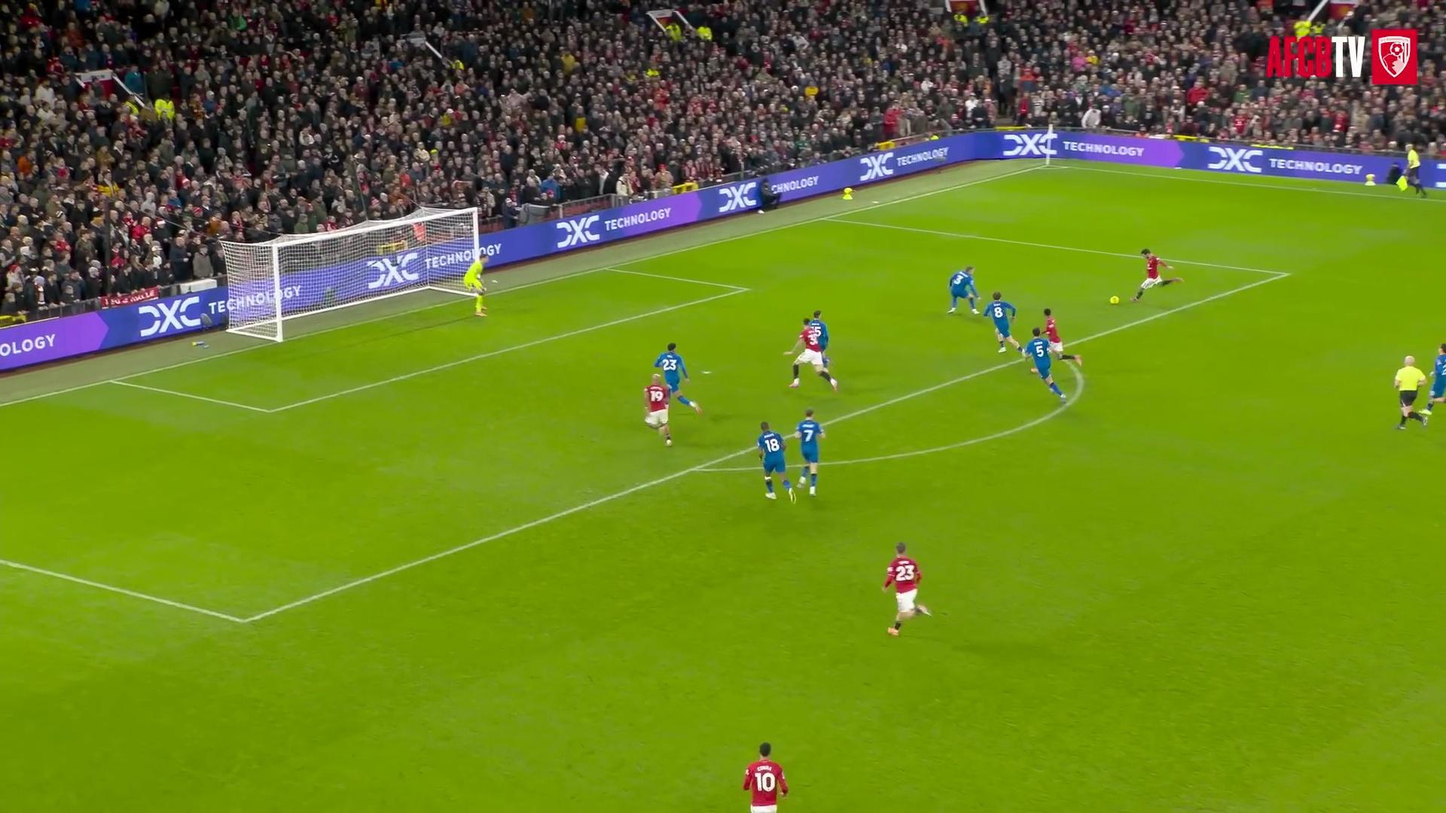football: (1110, 296, 1119, 304)
player: (883, 542, 931, 635), (784, 318, 837, 390), (653, 343, 701, 413), (1023, 327, 1066, 401), (743, 743, 788, 812), (757, 422, 795, 501), (1130, 248, 1182, 301), (794, 409, 825, 495), (1043, 308, 1081, 366), (985, 292, 1021, 352), (1419, 343, 1445, 416), (645, 374, 670, 446), (463, 252, 487, 316), (947, 266, 978, 314), (809, 309, 828, 366)
referee: (1394, 356, 1426, 429), (1407, 143, 1428, 196)
